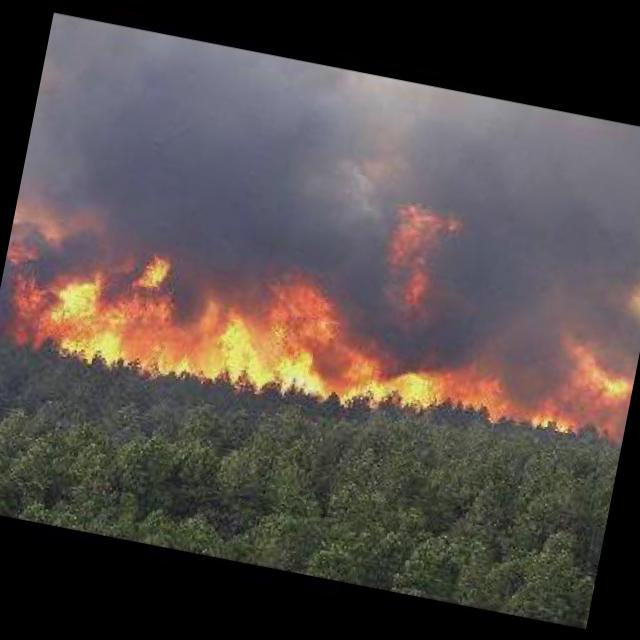fire: (0, 215, 538, 446), (533, 322, 640, 448), (369, 192, 452, 316)
